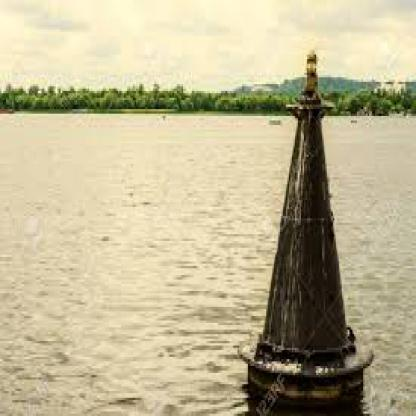buoy: (233, 39, 375, 404)
